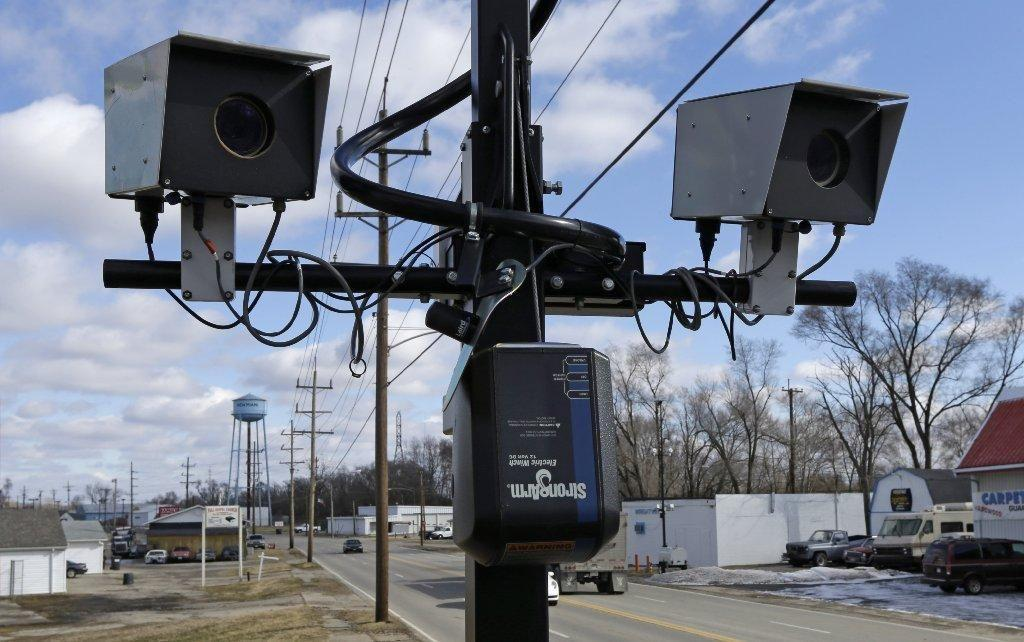Monitor: (102, 29, 332, 203), (669, 77, 909, 226)
